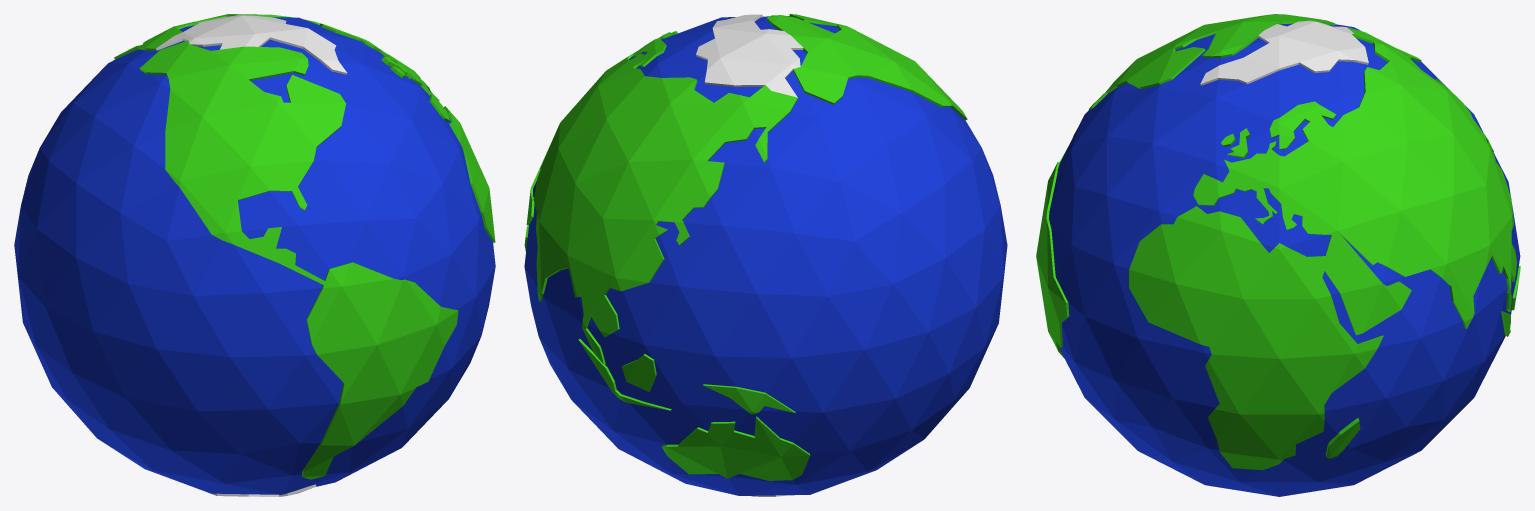
The model's file is low_poly_earth.dae.
3 views of the same model, side by side, from view 1: azimuth 30°, elevation 25°; view 2: azimuth 150°, elevation 25°; view 3: azimuth 270°, elevation 25° (orthographic).
Parts seen in each view (by area): view 1: Icosphere.001, Icosphere.002; view 2: Icosphere.001, Icosphere.002; view 3: Icosphere.002, Icosphere.001.
Part boxes in pixels (x1,y1,x2,y2): Icosphere.001: [14, 14, 495, 496]; Icosphere.002: [118, 14, 495, 495]; Icosphere.001: [524, 14, 1007, 496]; Icosphere.002: [526, 14, 966, 480]; Icosphere.002: [1037, 14, 1518, 470]; Icosphere.001: [1036, 20, 1520, 496].
Size of the model in its own units: 2.01 by 2.01 by 2.02.
